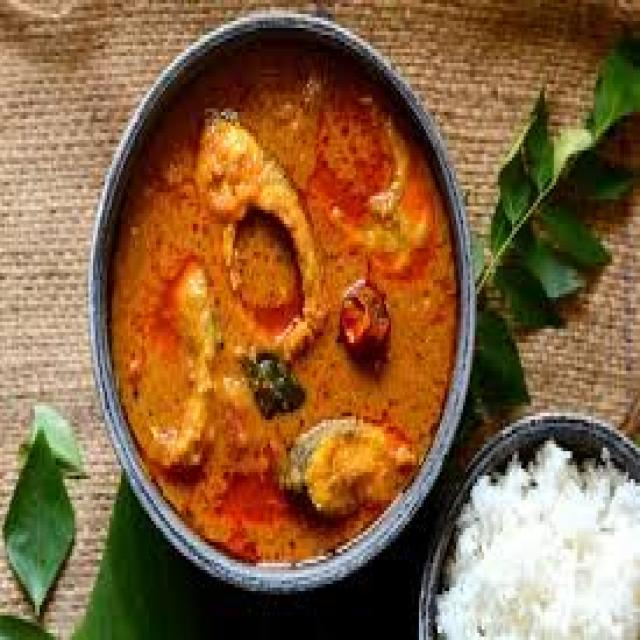FISH CURRY: (109, 43, 457, 567)
RICE: (443, 441, 638, 637)
